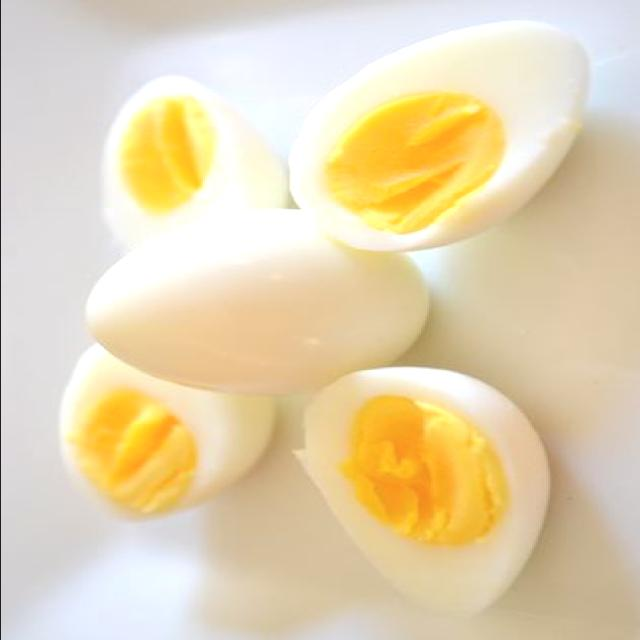telur rebus: (289, 19, 594, 254), (293, 365, 553, 620), (85, 209, 432, 398), (59, 343, 279, 523), (99, 77, 297, 254)
